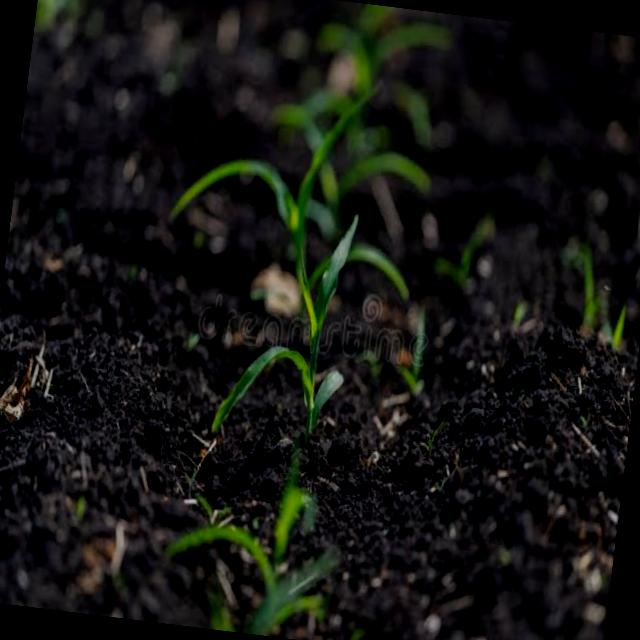suelo_humedo: (35, 143, 616, 622)
